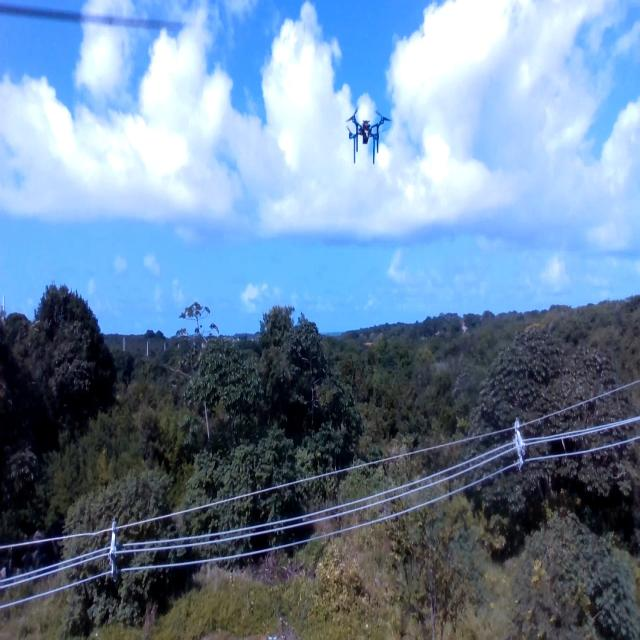-uav-: (339, 98, 396, 170)
